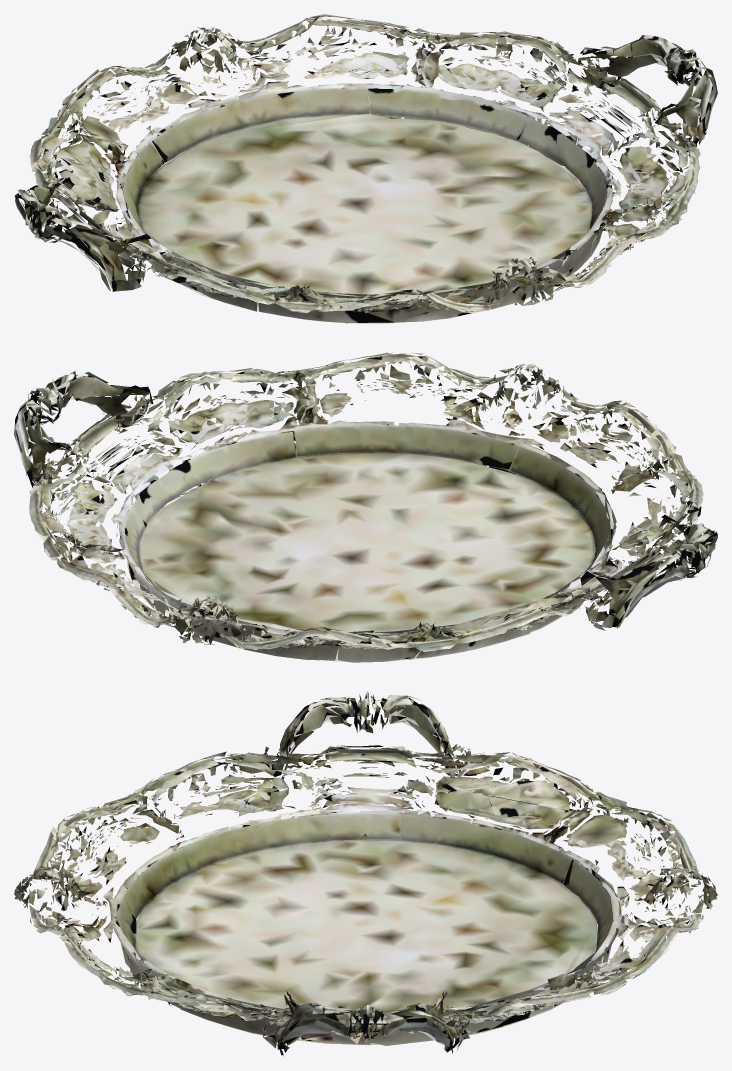
File: tea_tray.glb
The picture shows the model from 3 angles, top to bottom: view 1: azimuth 30°, elevation 25°; view 2: azimuth 150°, elevation 25°; view 3: azimuth 270°, elevation 25°; orthographic projection.
Parts seen in each view (by area): view 1: tea_tray_body; view 2: tea_tray_body; view 3: tea_tray_body.
Part boxes in pixels (box(x1,y1,x2,y2)): tea_tray_body: box(14, 14, 717, 323); tea_tray_body: box(14, 352, 717, 662); tea_tray_body: box(14, 691, 717, 1056).
Size of the model in its own units: 0.6983 by 0.0958 by 0.6355.
1 material, 1 textured.
